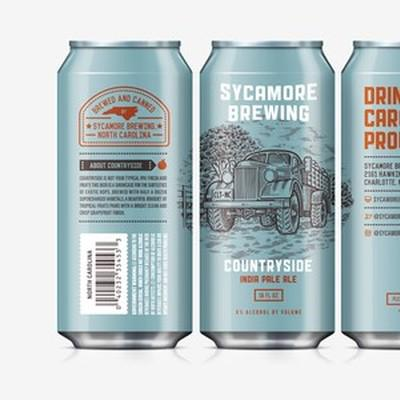beer: (53, 38, 196, 349)
